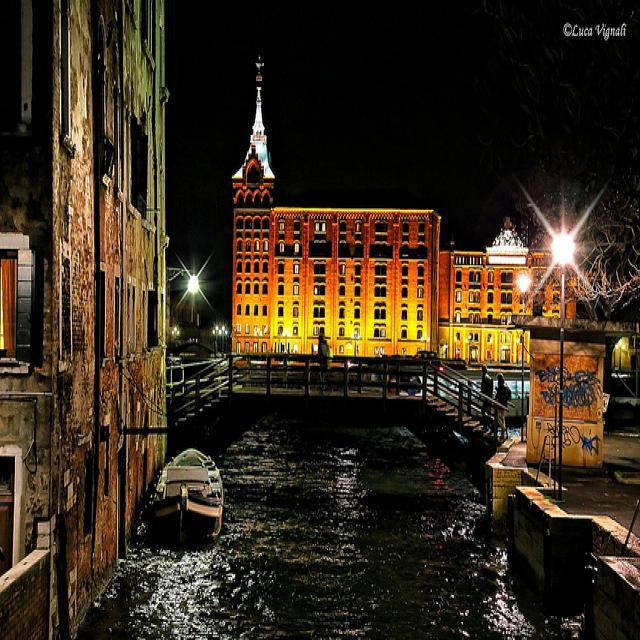Boat: (123, 442, 245, 567)
